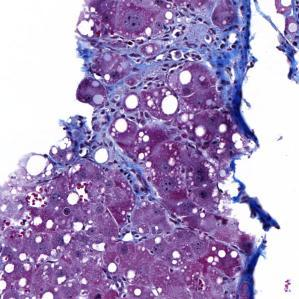fibrosis: (127, 14, 249, 76)
